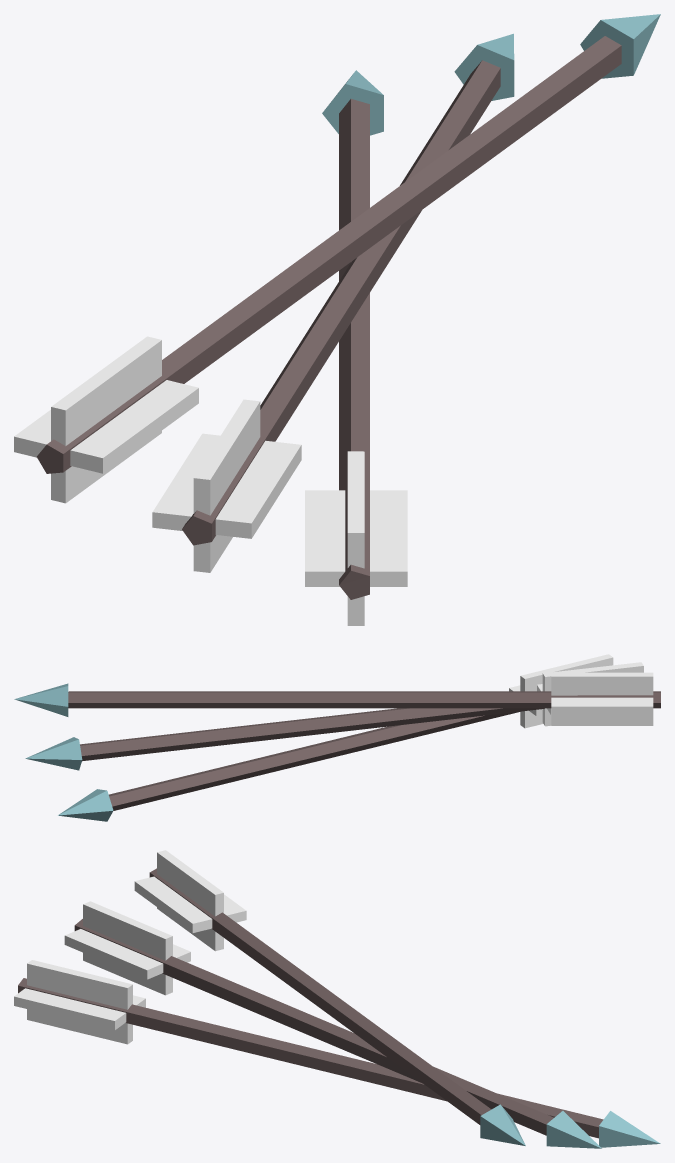
File: ce_ammo2_arrow_plasteel_b.obj
3 renders of one model, top to bottom at view 1: azimuth 30°, elevation 25°; view 2: azimuth 150°, elevation 25°; view 3: azimuth 270°, elevation 25°, orthographic. The views are drawn at different scales.
Visible parts, largest first — view 1: ce_ammo2_arrow_plasteel_b_8, ce_ammo2_arrow_plasteel_b_4, ce_ammo2_arrow_plasteel_b_0, ce_ammo2_arrow_plasteel_b_2, ce_ammo2_arrow_plasteel_b_6, ce_ammo2_arrow_plasteel_b_11, ce_ammo2_arrow_plasteel_b_10, ce_ammo2_arrow_plasteel_b_7, ce_ammo2_arrow_plasteel_b_3, ce_ammo2_arrow_plasteel_b_9, ce_ammo2_arrow_plasteel_b_5, ce_ammo2_arrow_plasteel_b_1; view 2: ce_ammo2_arrow_plasteel_b_8, ce_ammo2_arrow_plasteel_b_4, ce_ammo2_arrow_plasteel_b_0, ce_ammo2_arrow_plasteel_b_11, ce_ammo2_arrow_plasteel_b_10, ce_ammo2_arrow_plasteel_b_3, ce_ammo2_arrow_plasteel_b_1, ce_ammo2_arrow_plasteel_b_5, ce_ammo2_arrow_plasteel_b_9, ce_ammo2_arrow_plasteel_b_7; view 3: ce_ammo2_arrow_plasteel_b_0, ce_ammo2_arrow_plasteel_b_8, ce_ammo2_arrow_plasteel_b_4, ce_ammo2_arrow_plasteel_b_3, ce_ammo2_arrow_plasteel_b_7, ce_ammo2_arrow_plasteel_b_11, ce_ammo2_arrow_plasteel_b_2, ce_ammo2_arrow_plasteel_b_6, ce_ammo2_arrow_plasteel_b_10, ce_ammo2_arrow_plasteel_b_1, ce_ammo2_arrow_plasteel_b_5, ce_ammo2_arrow_plasteel_b_9.
Part boxes in pixels (x1,y1,x2,y2): ce_ammo2_arrow_plasteel_b_8: [37, 36, 621, 473]; ce_ammo2_arrow_plasteel_b_4: [182, 60, 500, 545]; ce_ammo2_arrow_plasteel_b_0: [339, 99, 369, 599]; ce_ammo2_arrow_plasteel_b_2: [305, 490, 407, 586]; ce_ammo2_arrow_plasteel_b_6: [152, 433, 301, 538]; ce_ammo2_arrow_plasteel_b_11: [51, 336, 161, 503]; ce_ammo2_arrow_plasteel_b_10: [14, 380, 198, 473]; ce_ammo2_arrow_plasteel_b_7: [193, 399, 260, 572]; ce_ammo2_arrow_plasteel_b_3: [347, 451, 364, 625]; ce_ammo2_arrow_plasteel_b_9: [580, 14, 660, 78]; ce_ammo2_arrow_plasteel_b_5: [454, 33, 514, 100]; ce_ammo2_arrow_plasteel_b_1: [322, 70, 383, 135]; ce_ammo2_arrow_plasteel_b_8: [68, 691, 660, 708]; ce_ammo2_arrow_plasteel_b_4: [80, 708, 544, 761]; ce_ammo2_arrow_plasteel_b_0: [109, 711, 519, 810]; ce_ammo2_arrow_plasteel_b_11: [551, 672, 653, 725]; ce_ammo2_arrow_plasteel_b_10: [551, 697, 653, 714]; ce_ammo2_arrow_plasteel_b_3: [520, 654, 613, 728]; ce_ammo2_arrow_plasteel_b_1: [58, 789, 113, 821]; ce_ammo2_arrow_plasteel_b_5: [25, 737, 82, 770]; ce_ammo2_arrow_plasteel_b_9: [14, 683, 68, 716]; ce_ammo2_arrow_plasteel_b_7: [542, 662, 643, 726]; ce_ammo2_arrow_plasteel_b_0: [18, 978, 603, 1138]; ce_ammo2_arrow_plasteel_b_8: [149, 868, 491, 1124]; ce_ammo2_arrow_plasteel_b_4: [74, 919, 553, 1135]; ce_ammo2_arrow_plasteel_b_3: [27, 960, 132, 1044]; ce_ammo2_arrow_plasteel_b_7: [83, 901, 172, 995]; ce_ammo2_arrow_plasteel_b_11: [157, 850, 223, 951]; ce_ammo2_arrow_plasteel_b_2: [14, 988, 145, 1030]; ce_ammo2_arrow_plasteel_b_6: [64, 929, 190, 979]; ce_ammo2_arrow_plasteel_b_10: [134, 876, 246, 932]; ce_ammo2_arrow_plasteel_b_1: [599, 1111, 660, 1147]; ce_ammo2_arrow_plasteel_b_5: [546, 1111, 601, 1148]; ce_ammo2_arrow_plasteel_b_9: [480, 1104, 525, 1145].
Bounding box in the file's own units: 0.7498 × 0.142 × 0.7498.
